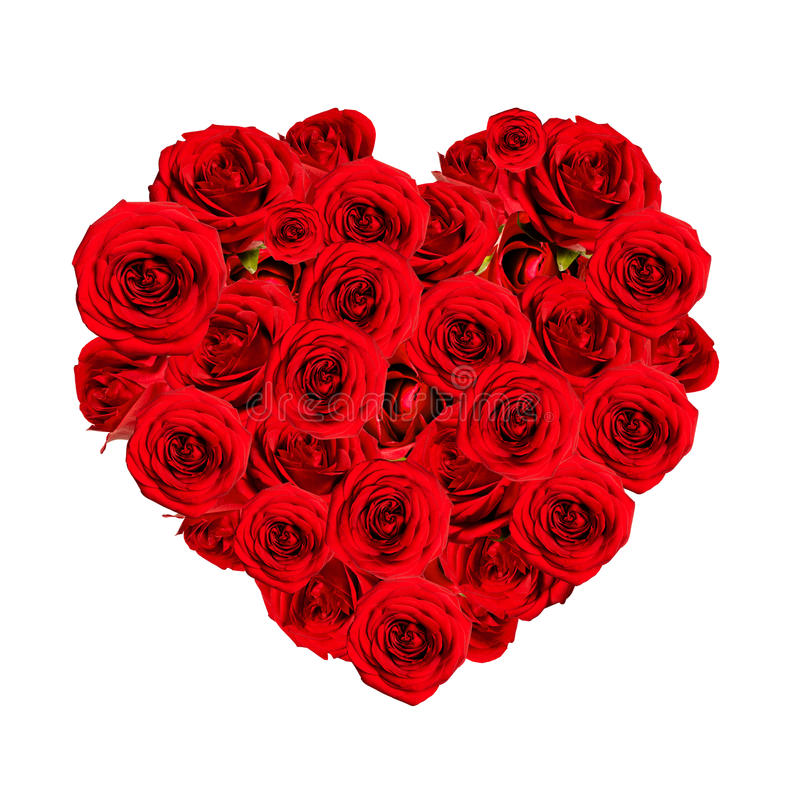RedRose: (148, 113, 307, 271), (74, 191, 215, 352), (526, 105, 663, 244), (322, 455, 462, 577), (345, 573, 471, 705), (258, 319, 391, 439), (587, 201, 713, 326), (584, 365, 706, 492), (128, 392, 249, 520), (295, 227, 413, 350), (403, 277, 526, 394), (520, 264, 647, 376), (472, 347, 592, 463), (517, 464, 631, 586), (178, 275, 296, 392), (259, 547, 375, 662), (56, 334, 178, 436), (236, 397, 361, 496), (316, 147, 432, 251), (453, 518, 563, 620), (422, 406, 521, 518), (227, 489, 332, 586), (434, 124, 537, 218), (354, 350, 442, 455), (271, 96, 379, 180), (413, 179, 501, 281), (647, 315, 726, 400), (442, 572, 514, 660), (255, 197, 329, 276), (177, 502, 245, 576), (489, 217, 558, 287), (487, 100, 547, 167)
